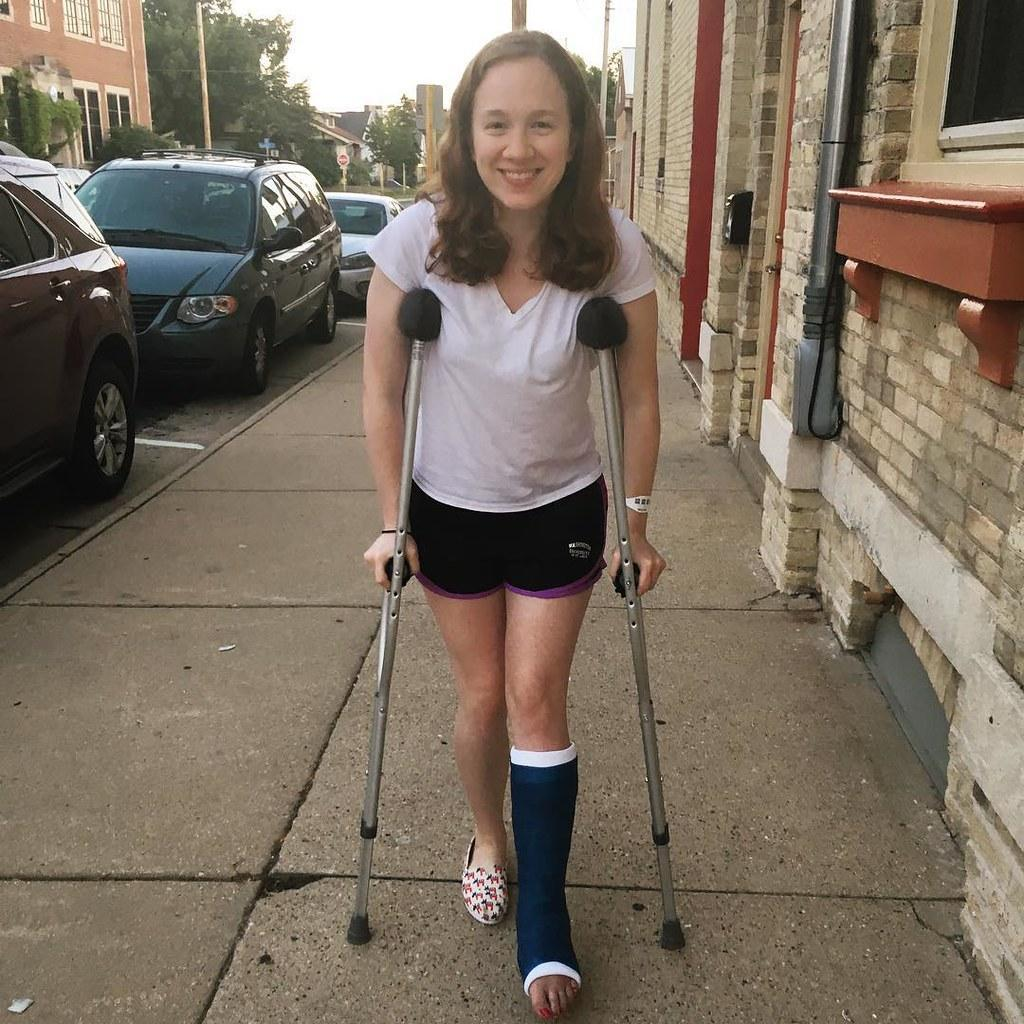crutches: (324, 29, 703, 1010)
